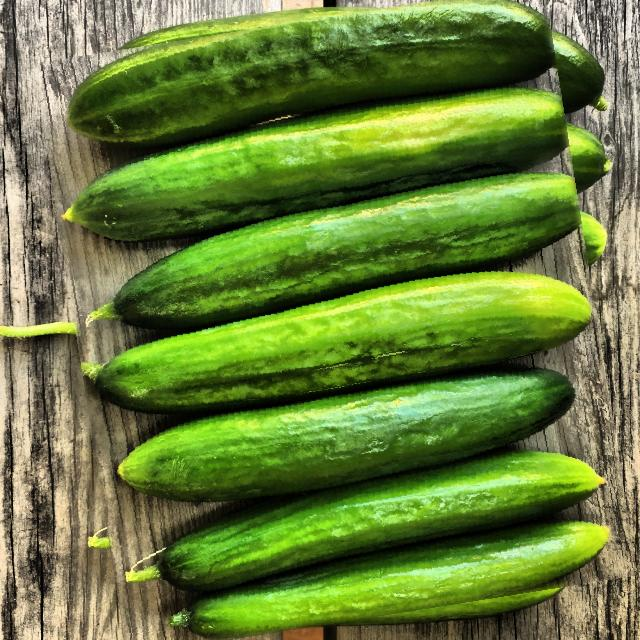cucumber: (55, 1, 616, 638)
